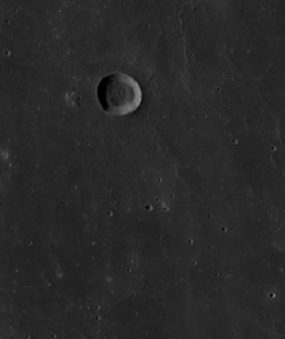crater: (53, 20, 184, 169)
